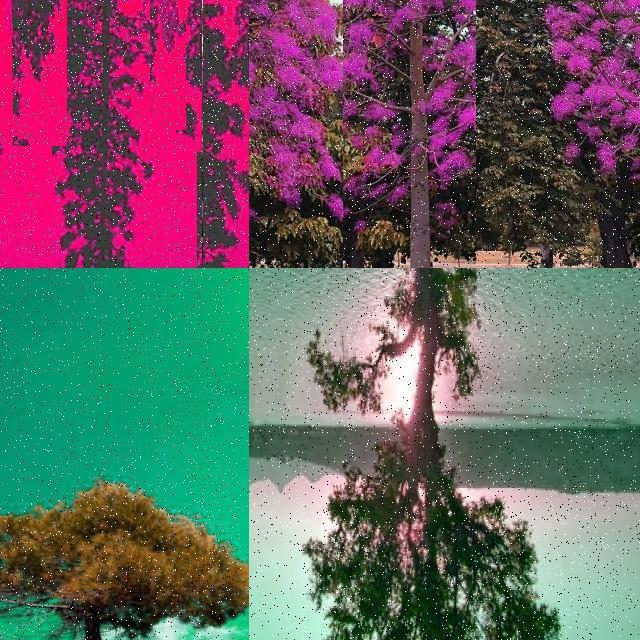tree: (300, 268, 556, 640), (249, 0, 575, 268), (476, 0, 640, 268), (0, 475, 248, 640), (53, 0, 153, 268), (249, 0, 343, 268), (0, 0, 52, 268), (197, 0, 249, 268), (0, 0, 48, 268), (202, 0, 250, 262), (176, 0, 228, 152), (13, 0, 67, 146), (150, 0, 186, 130), (0, 1, 20, 196), (249, 280, 275, 370), (0, 0, 12, 176), (0, 0, 16, 114), (0, 0, 12, 124), (0, 0, 12, 68), (0, 0, 12, 64)
